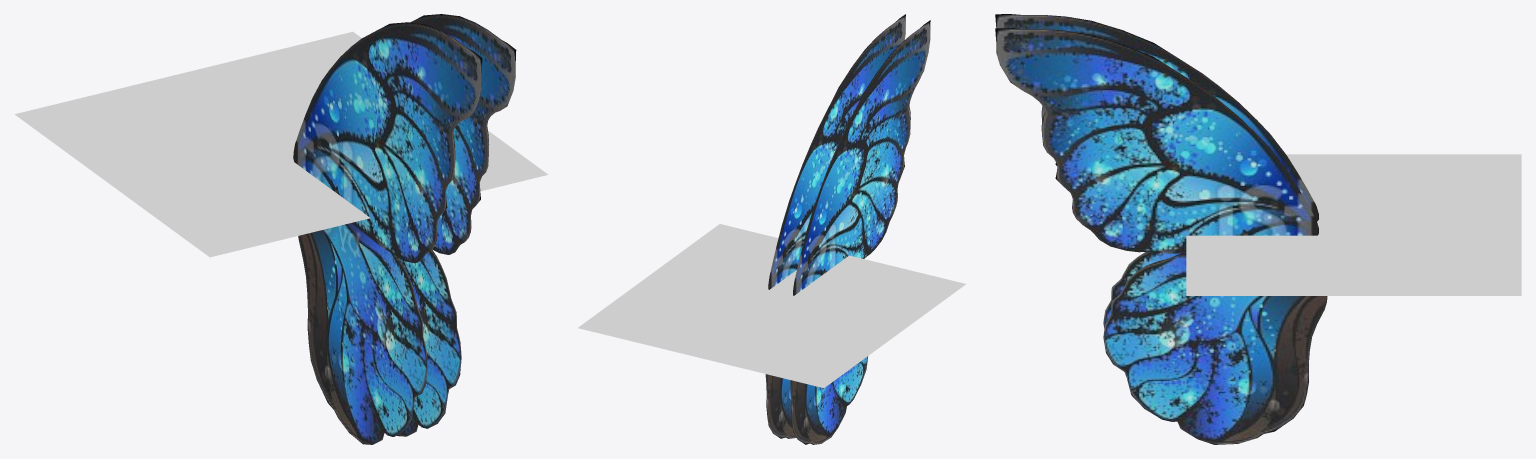
File: butterfly.gltf
3 views of the same model, side by side, from view 1: azimuth 30°, elevation 25°; view 2: azimuth 150°, elevation 25°; view 3: azimuth 270°, elevation 25° (orthographic). The views are drawn at different scales.
Parts seen in each view (by area): view 1: Plane.002, Plane, Plane.001; view 2: Plane, Plane.002, Plane.001; view 3: Plane.001, Plane, Plane.002.
Boxes of the visible parts, x1=… form: Plane.002: x1=293, y1=22, x2=482, y2=444; Plane: x1=15, y1=31, x2=548, y2=257; Plane.001: x1=397, y1=14, x2=516, y2=436; Plane: x1=578, y1=224, x2=965, y2=387; Plane.002: x1=790, y1=20, x2=930, y2=444; Plane.001: x1=765, y1=14, x2=905, y2=438; Plane.001: x1=995, y1=28, x2=1327, y2=444; Plane: x1=1186, y1=154, x2=1521, y2=295; Plane.002: x1=995, y1=14, x2=1318, y2=366.
Bounding box in the file's own units: 2 × 2.72 × 3.14.
2 materials, 1 textured.
